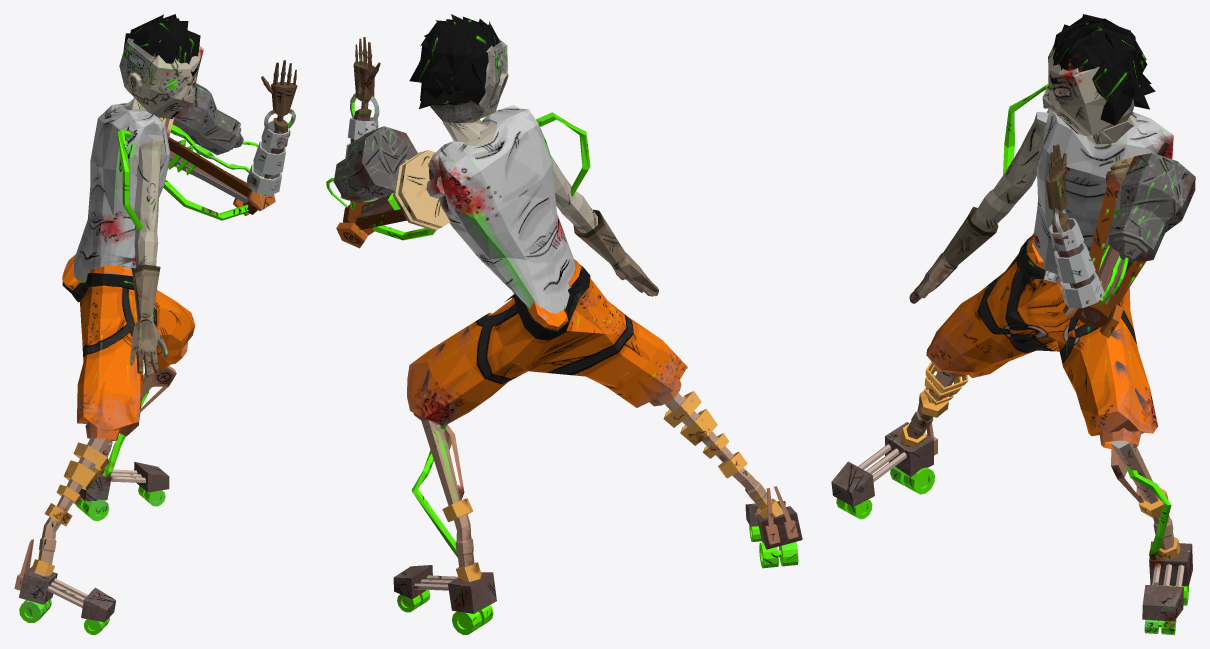
The model's file is CyborgFINALAnimation_000053.obj.
3 renders of one model, left to right at view 1: azimuth 30°, elevation 25°; view 2: azimuth 150°, elevation 25°; view 3: azimuth 270°, elevation 25°, orthographic. The views are drawn at different scales.
Parts seen in each view (by area): view 1: CyborgMesh_Cube.002; view 2: CyborgMesh_Cube.002; view 3: CyborgMesh_Cube.002.
Boxes of the visible parts, left/top/right/bottom form: CyborgMesh_Cube.002: left=14, top=14, right=297, bottom=634; CyborgMesh_Cube.002: left=326, top=14, right=802, bottom=634; CyborgMesh_Cube.002: left=831, top=14, right=1195, bottom=634.
Size of the model in its own units: 6.04 by 8.65 by 4.7.
